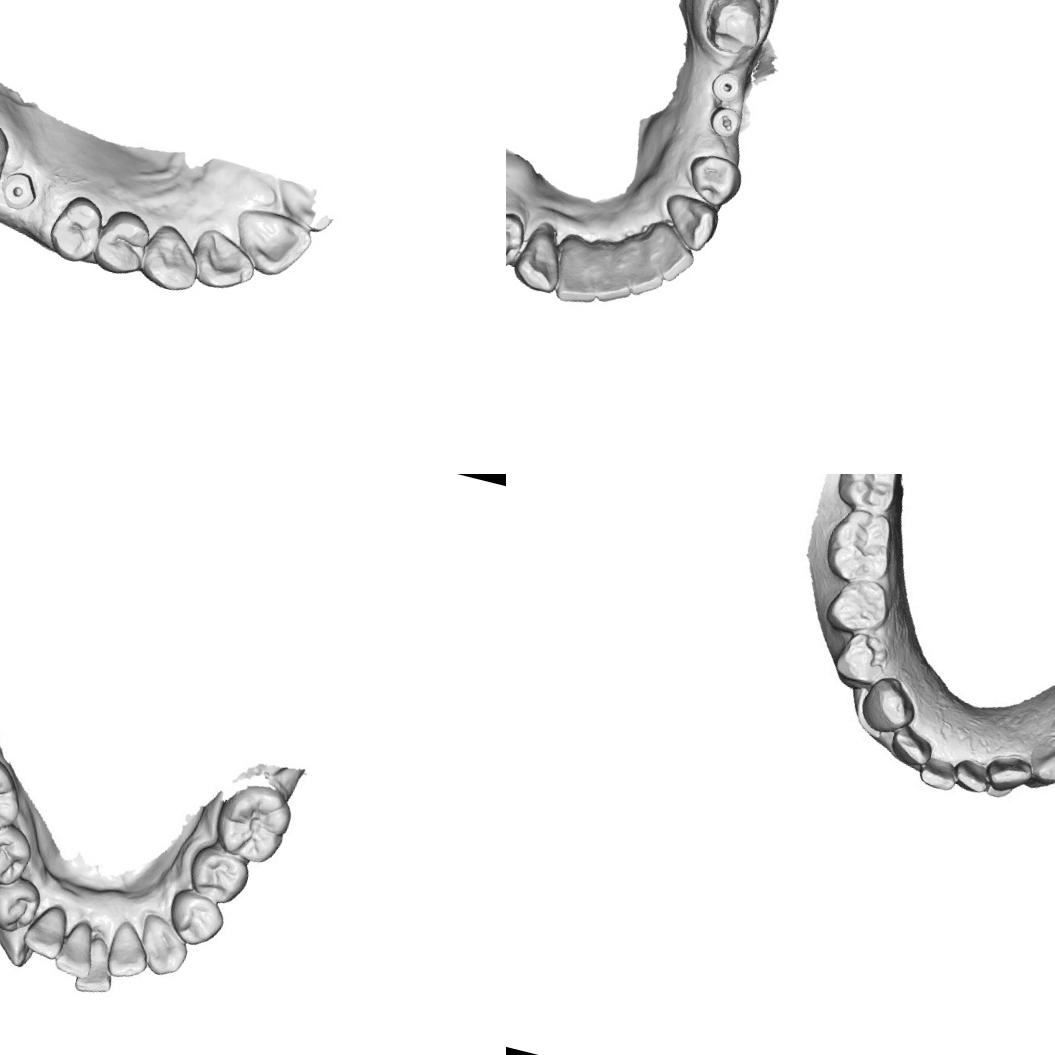canine: (136, 218, 207, 296), (130, 910, 198, 982), (508, 216, 570, 294), (854, 670, 920, 736), (655, 190, 723, 254), (0, 916, 39, 974), (1026, 733, 1055, 789)
crown: (695, 0, 771, 60)
implant: (0, 160, 41, 211), (707, 66, 745, 105)
implant_minus: (704, 103, 742, 141)
incisor: (225, 203, 316, 285), (192, 225, 262, 297), (546, 231, 610, 308), (584, 238, 642, 308), (68, 933, 122, 1005), (102, 919, 156, 987), (18, 898, 70, 962), (52, 920, 103, 980), (647, 234, 698, 288), (886, 721, 938, 769), (988, 753, 1034, 797), (621, 259, 667, 302), (916, 754, 960, 793), (955, 756, 992, 796)
molar: (210, 773, 296, 862), (818, 501, 903, 591), (830, 474, 908, 517), (0, 741, 30, 845), (0, 107, 18, 208)
premolar: (89, 206, 157, 285), (820, 571, 895, 642), (43, 190, 108, 268), (186, 841, 254, 907), (830, 626, 894, 690), (682, 150, 746, 211), (164, 890, 227, 950), (0, 866, 49, 942), (0, 818, 39, 891), (506, 204, 529, 271)
